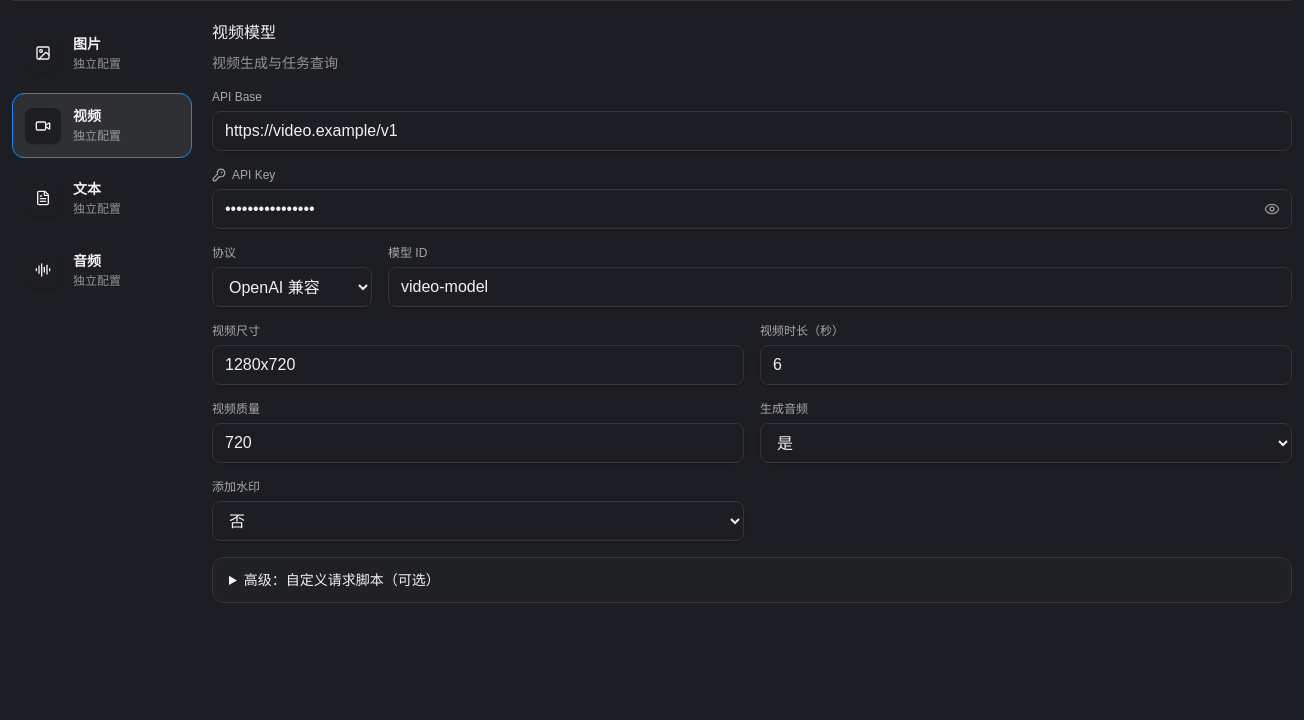
CapabilityModelConfigDialog › opens the requested capability and keeps all four capability sections independent
The image size is (1304, 720).
Click the tab "图片 独立配置" at (102, 53), box [12,21,192,85]
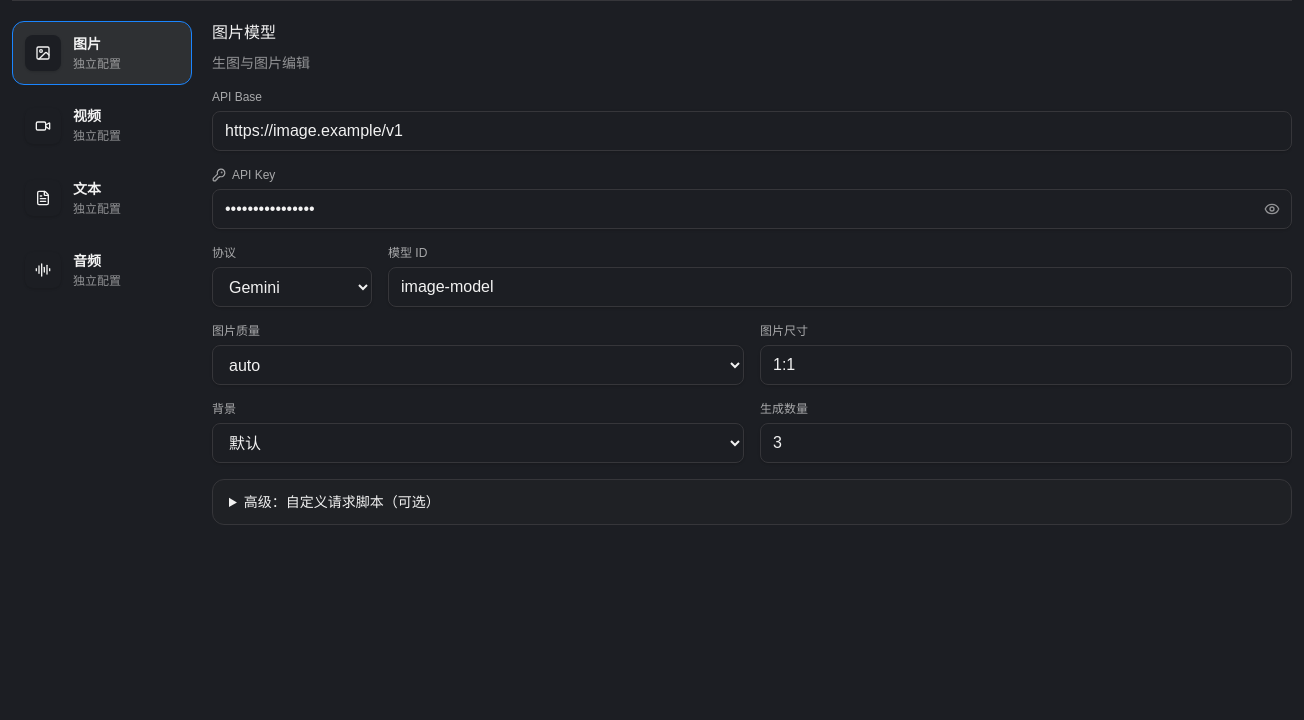
Click the tab "视频 独立配置" at (102, 126), box [12,93,192,158]
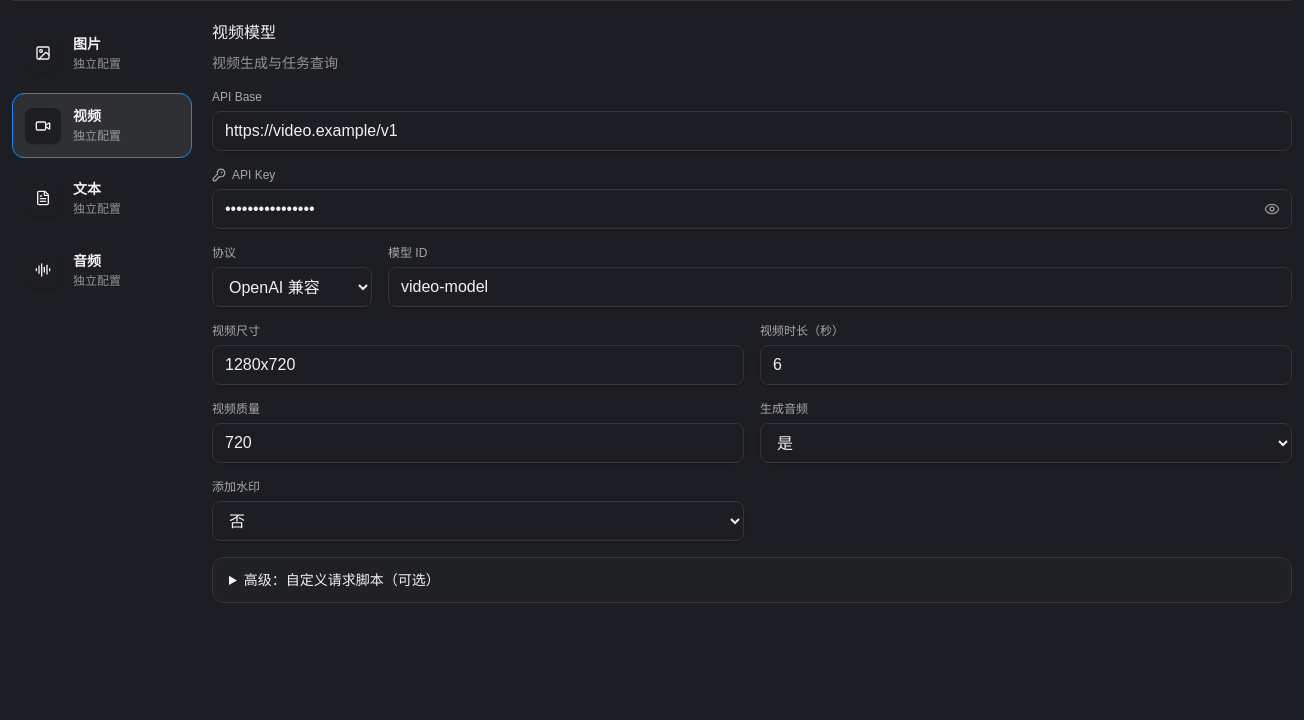
Expected: the field with test id "video-api-base" holds "https://video.example/v1", [212,111,1292,151]
Expected: the field with test id "video-model-id" holds "video-model", [388,267,1292,307]
Click the tab "图片 独立配置" at (102, 53), box [12,21,192,85]
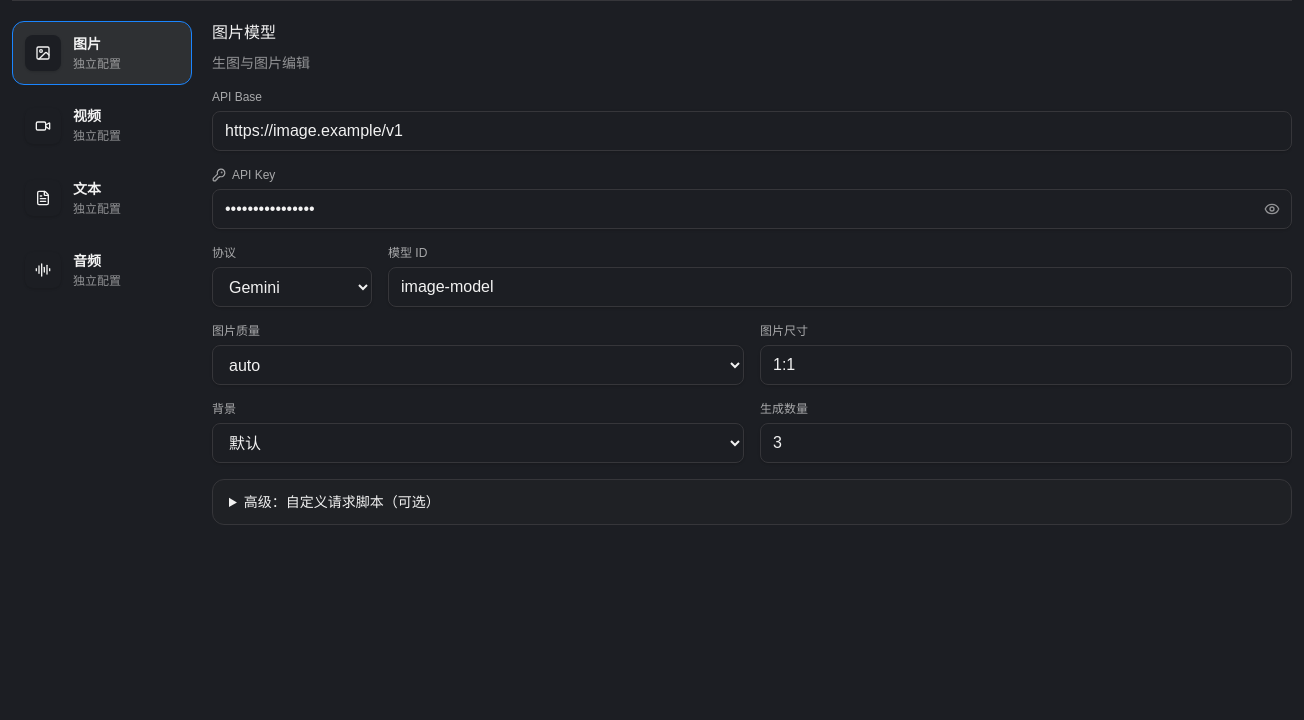
Expected: the field with test id "video-model-id" holds "image-model", [388,267,1292,307]
Click the tab "视频 独立配置" at (102, 126), box [12,93,192,158]
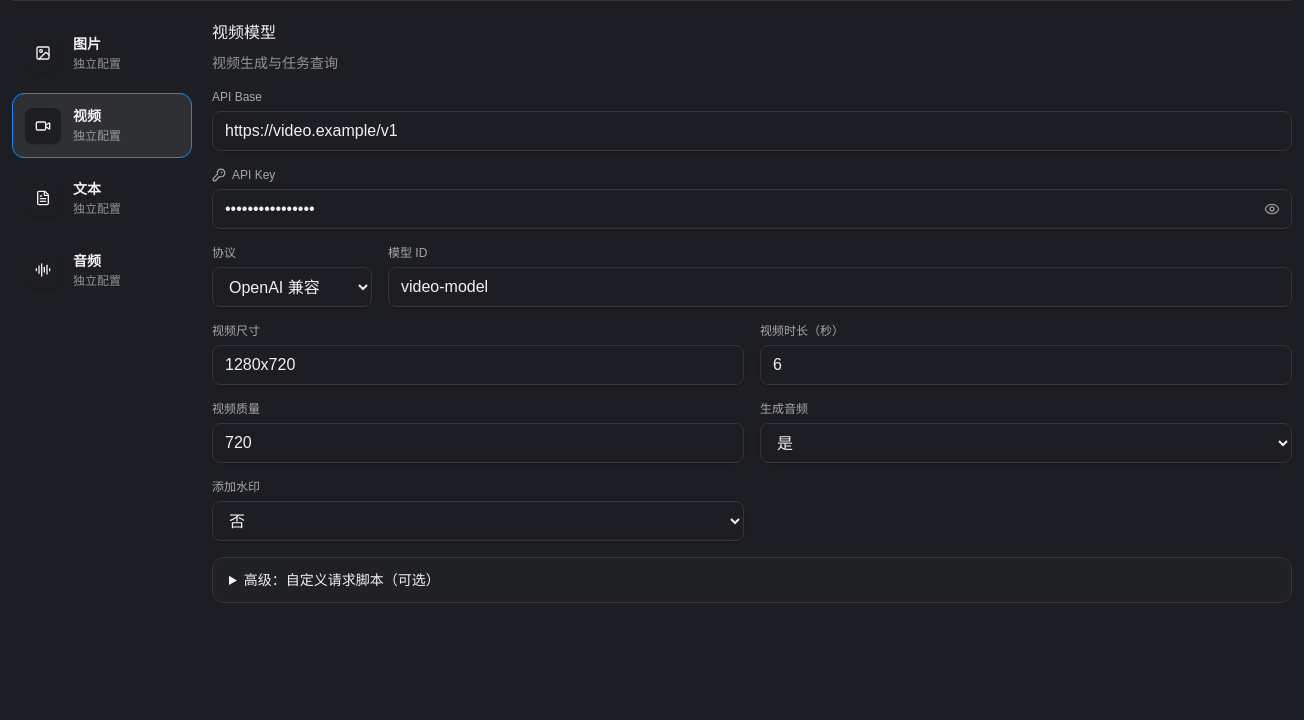
Expected: the field with test id "video-api-base" holds "https://video.example/v1", [212,111,1292,151]
Expected: the field with test id "video-model-id" holds "video-model", [388,267,1292,307]
Click the tab "文本 独立配置" at (102, 198), box [12,166,192,230]
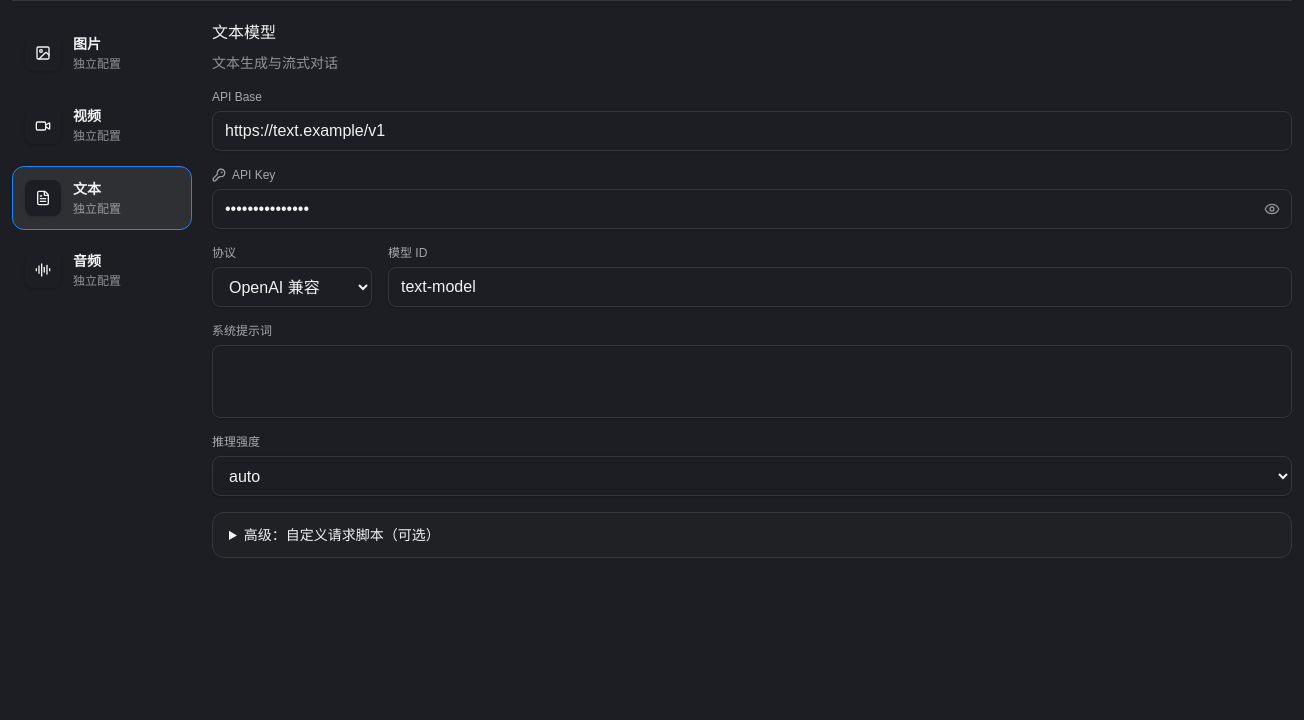
Expected: the field with test id "video-model-id" holds "text-model", [388,267,1292,307]
Click the tab "音频 独立配置" at (102, 270), box [12,238,192,303]
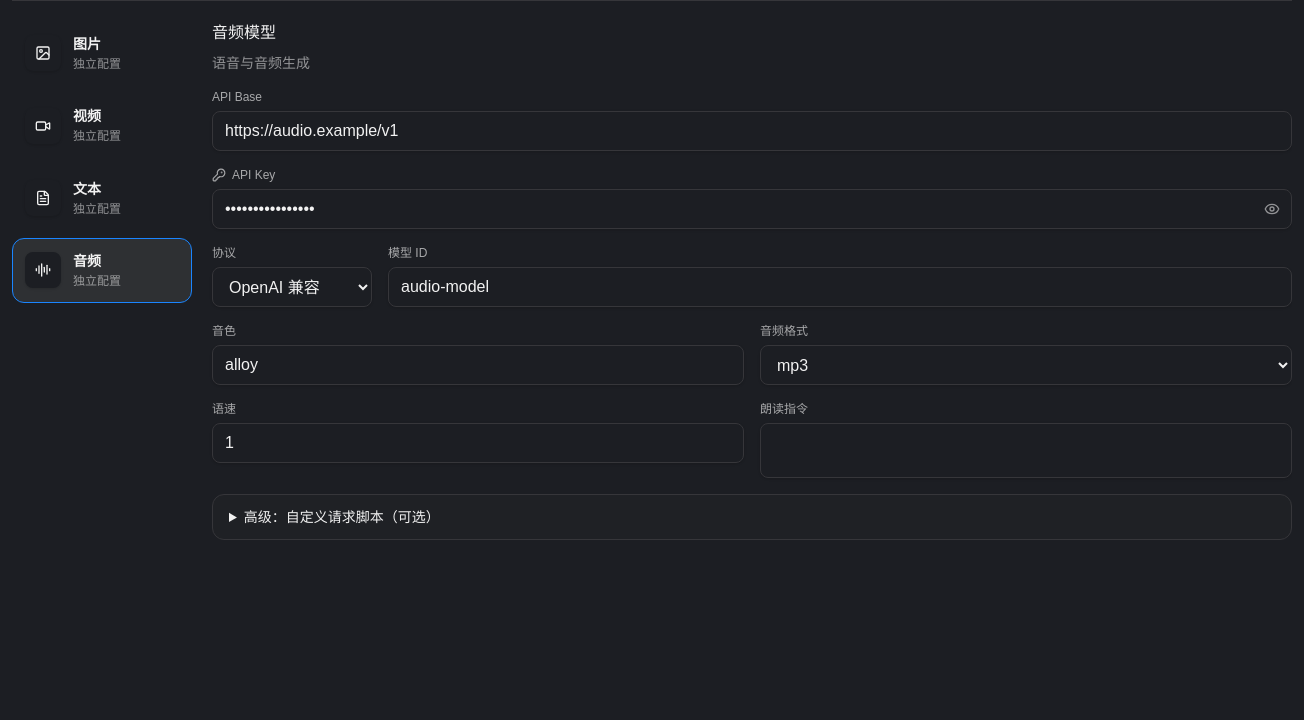
Expected: the field with test id "video-model-id" holds "audio-model", [388,267,1292,307]
